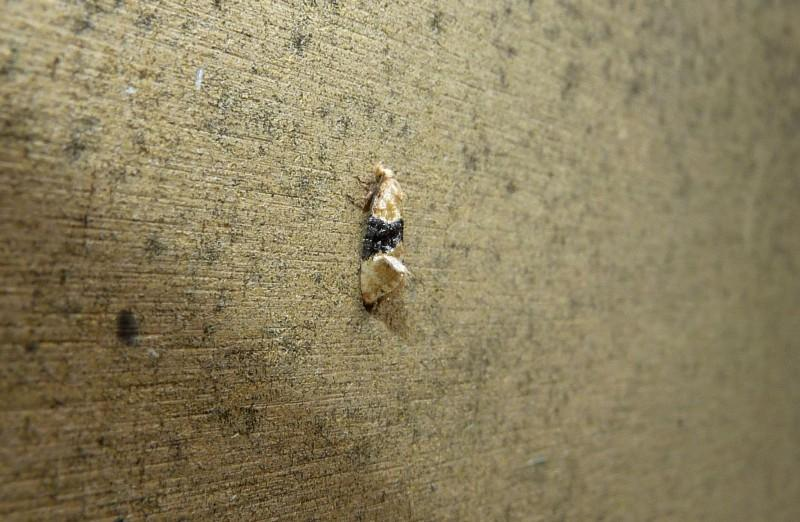Eupoecilia Ambiguella: (353, 161, 413, 315)
